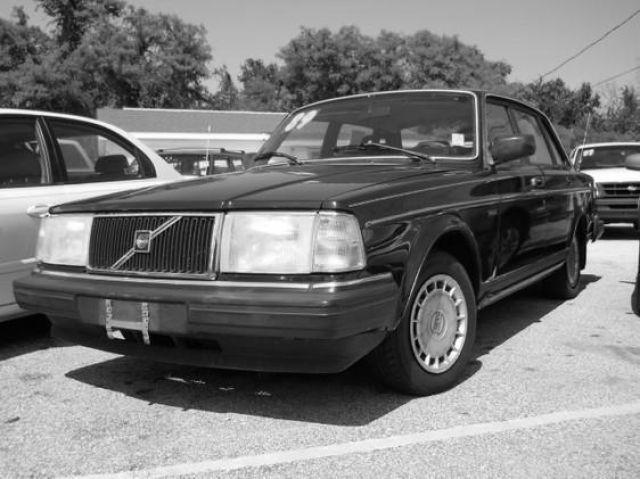car: (13, 88, 602, 393)
